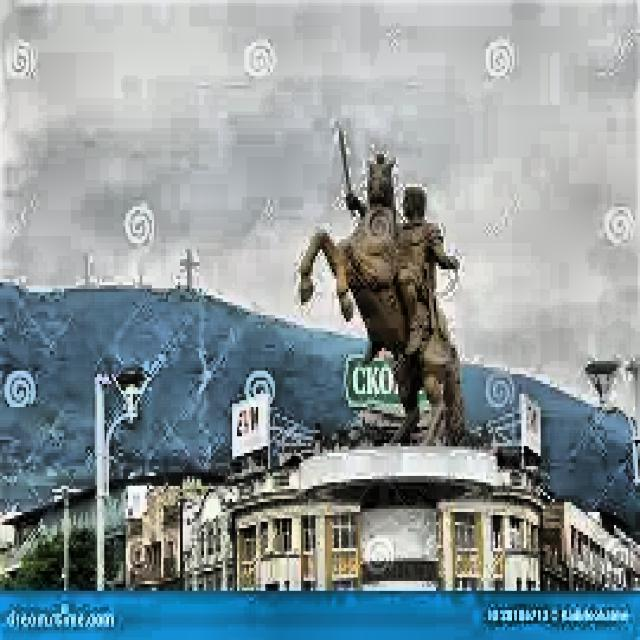alexander the great monument: (287, 122, 504, 582)
